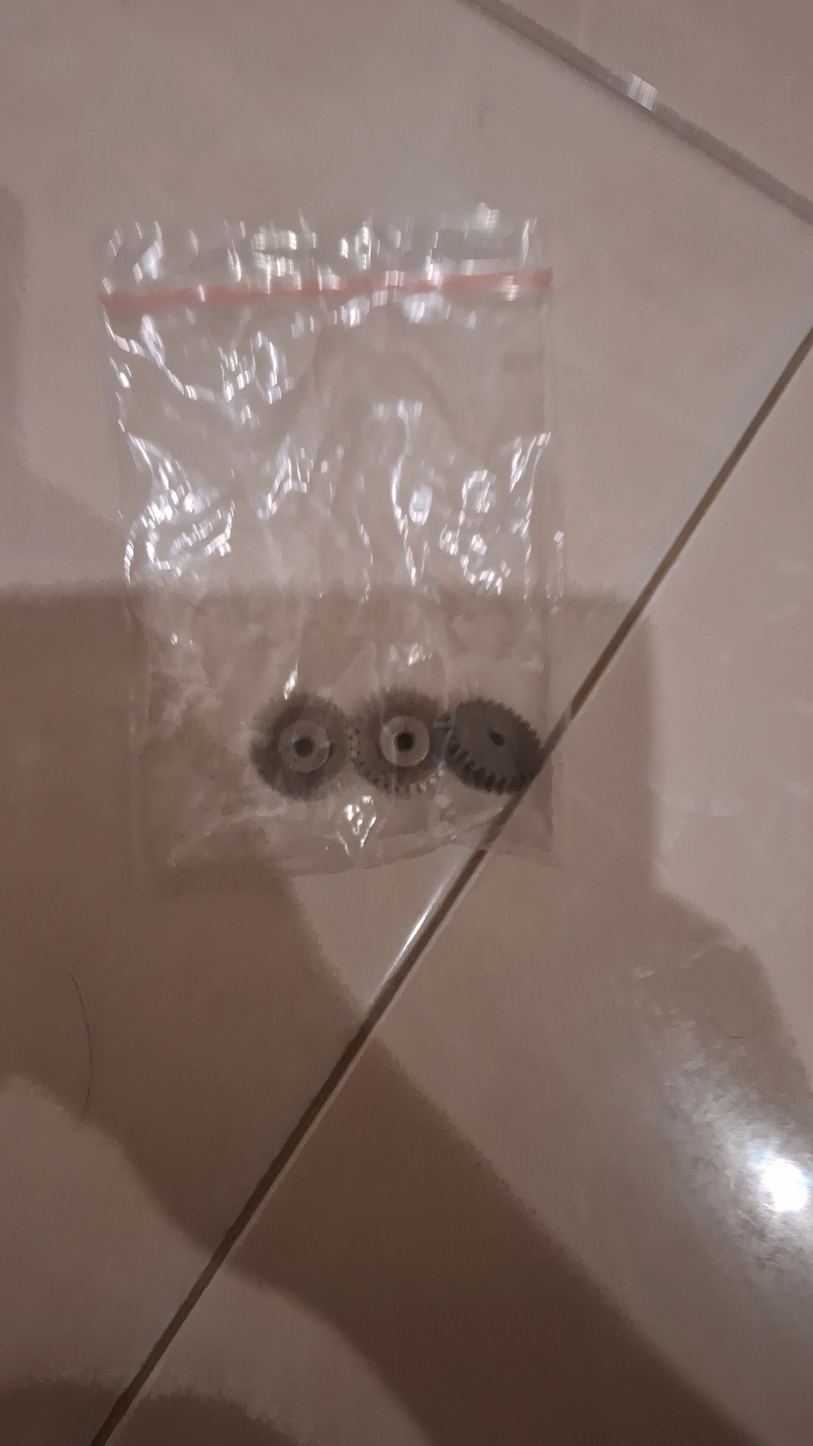spur gear: (350, 691, 448, 798), (251, 694, 349, 799), (446, 698, 543, 794)
